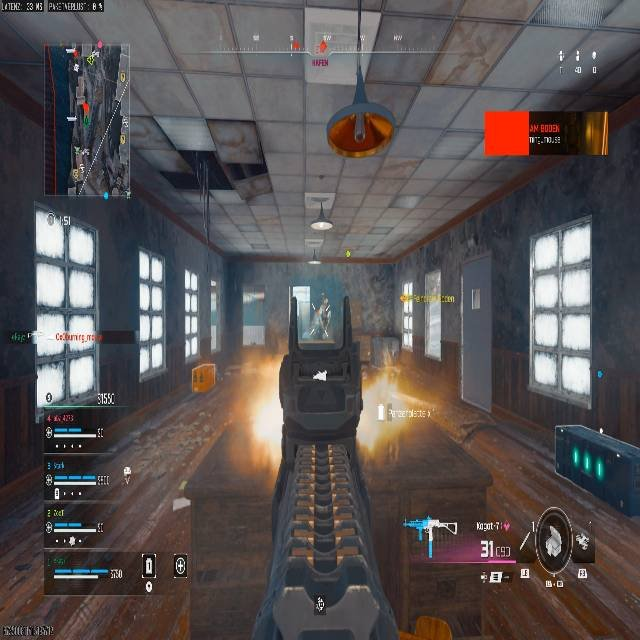player: (317, 293, 331, 338)
